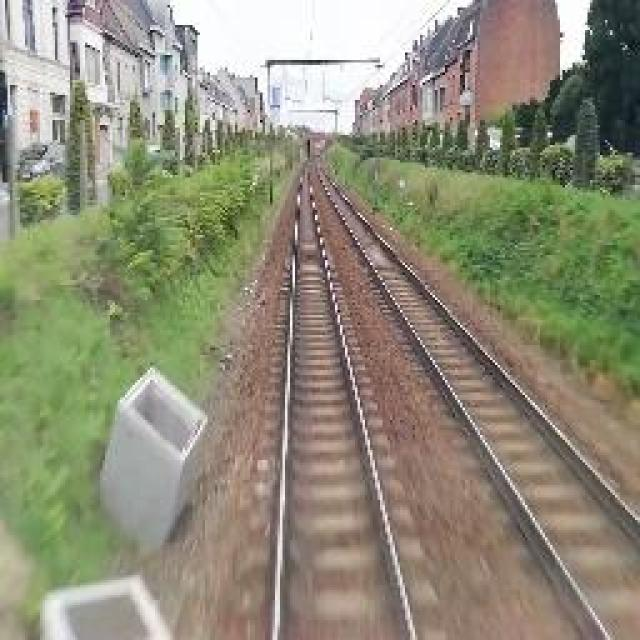rail: (242, 164, 455, 640)
